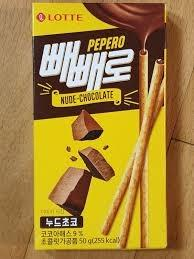snack: (32, 2, 169, 252)
